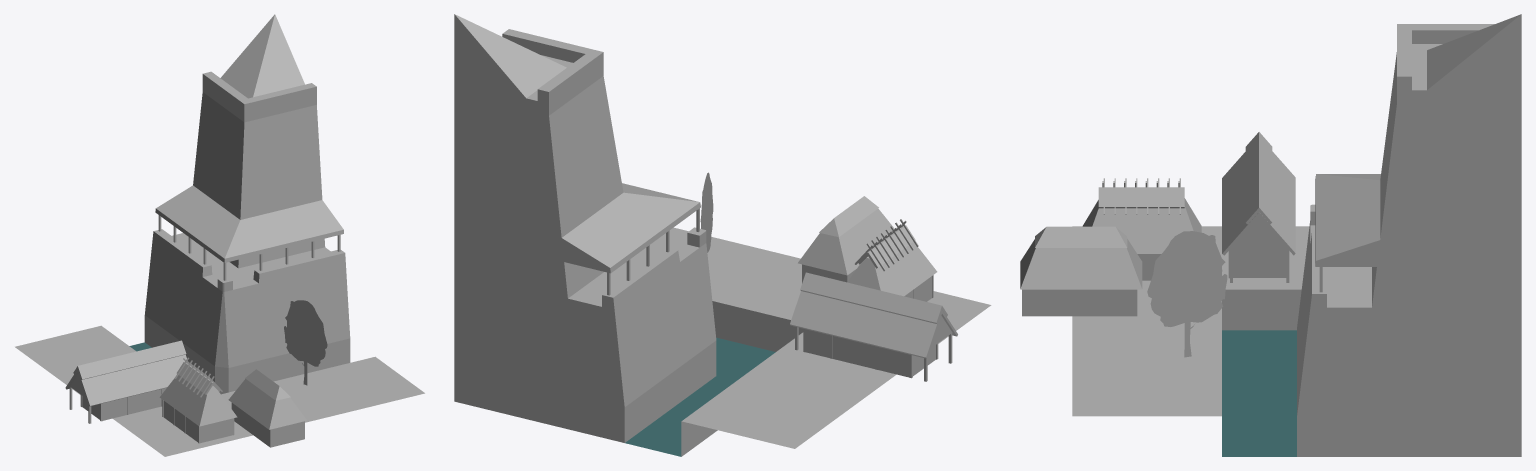
Rendered from wcw1.obj.
3 views of the same model, side by side, from view 1: azimuth 30°, elevation 25°; view 2: azimuth 150°, elevation 25°; view 3: azimuth 270°, elevation 25° (orthographic). The views are drawn at different scales.
Visible parts, largest first — view 1: wcw1; view 2: wcw1; view 3: wcw1.
Part boxes in pixels (x1,y1,x2,y2): wcw1: (15,14,424,456); wcw1: (454,14,991,456); wcw1: (1020,14,1521,456).
Size of the model in its own units: 32.84 by 32.63 by 33.48.
